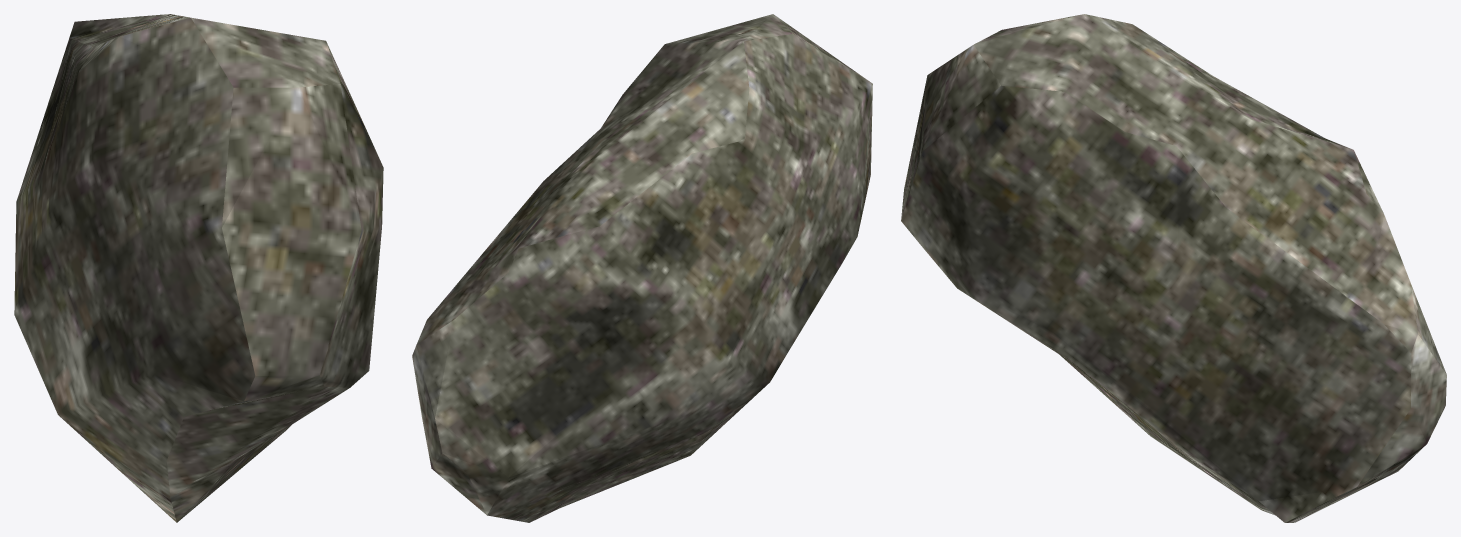
The model's file is SM_Small_Rock_05_LOD2.fbx.
3 renders of one model, left to right at view 1: azimuth 30°, elevation 25°; view 2: azimuth 150°, elevation 25°; view 3: azimuth 270°, elevation 25°, orthographic. The views are drawn at different scales.
Visible parts, largest first — view 1: SM_Small_Rock_05_LOD2; view 2: SM_Small_Rock_05_LOD2; view 3: SM_Small_Rock_05_LOD2.
Boxes of the visible parts, x1,y1,x2,y2 form: SM_Small_Rock_05_LOD2: [14, 14, 383, 522]; SM_Small_Rock_05_LOD2: [412, 14, 872, 522]; SM_Small_Rock_05_LOD2: [901, 14, 1446, 522].
Bounding box in the file's own units: 77.5 × 132 × 144.
